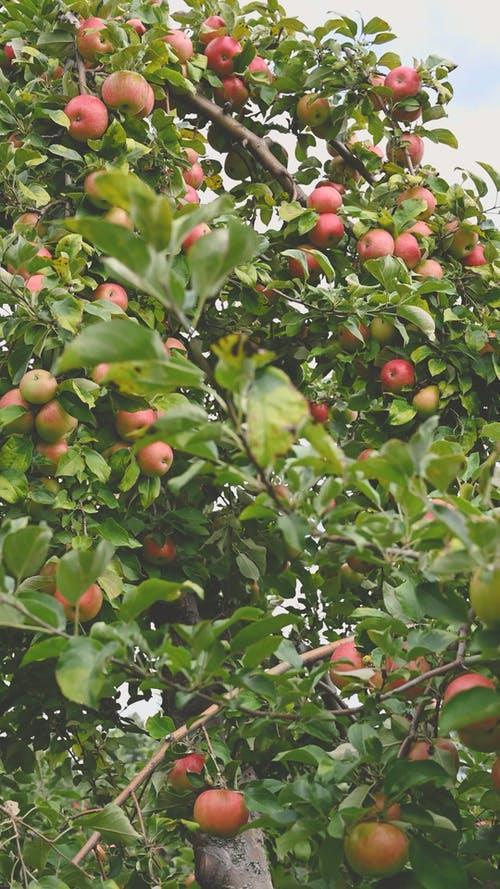apple: (343, 819, 410, 875), (193, 790, 247, 837), (101, 70, 149, 115), (64, 93, 107, 139), (380, 357, 415, 395), (356, 226, 392, 262), (387, 230, 423, 266), (136, 439, 173, 474), (34, 402, 71, 437), (19, 367, 56, 402), (308, 211, 343, 244), (383, 67, 419, 99), (309, 186, 341, 212), (96, 281, 127, 306)
